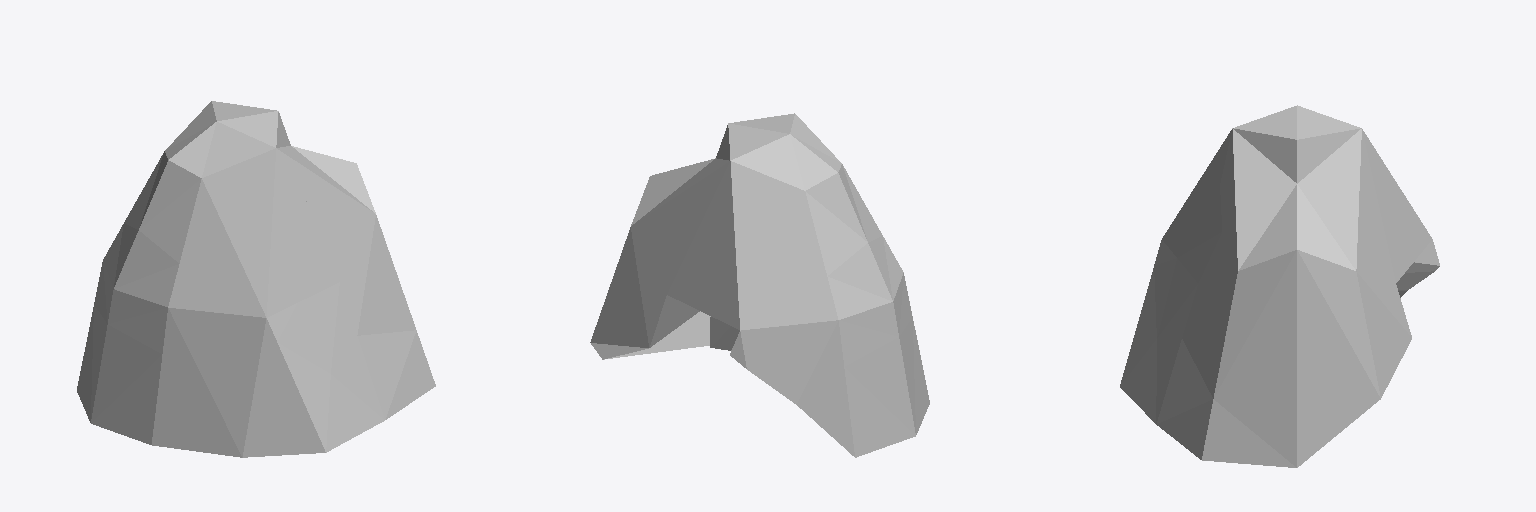
The model's file is Breakable.obj.
3 renders of one model, left to right at view 1: azimuth 30°, elevation 25°; view 2: azimuth 150°, elevation 25°; view 3: azimuth 270°, elevation 25°, orthographic.
Parts seen in each view (by area): view 1: mesh_4_, mesh_11_, mesh_21_, mesh_5_, mesh_38_, mesh_36_, mesh_19_, mesh_7_, mesh_28_; view 2: mesh_4_, mesh_21_, mesh_11_, mesh_19_, mesh_38_, mesh_10_, mesh_36_, mesh_18_, mesh_40_; view 3: mesh_4_, mesh_19_, mesh_36_, mesh_9_, mesh_7_, mesh_15_, mesh_12_.
Part boxes in pixels (x1,y1,x2,y2): mesh_4_: (78, 104, 433, 455); mesh_11_: (94, 223, 276, 391); mesh_21_: (77, 308, 164, 444); mesh_5_: (152, 343, 287, 457); mesh_38_: (77, 309, 209, 443); mesh_36_: (200, 101, 344, 217); mesh_19_: (201, 101, 343, 193); mesh_7_: (267, 282, 355, 352); mesh_28_: (108, 230, 258, 388); mesh_4_: (590, 115, 925, 457); mesh_21_: (797, 324, 929, 457); mesh_11_: (730, 236, 912, 403); mesh_19_: (662, 114, 806, 229); mesh_38_: (847, 323, 929, 456); mesh_10_: (608, 312, 710, 358); mesh_36_: (663, 113, 804, 227); mesh_18_: (591, 295, 698, 359); mesh_40_: (710, 317, 739, 350); mesh_4_: (1120, 106, 1431, 467); mesh_19_: (1233, 106, 1375, 230); mesh_36_: (1219, 105, 1375, 231); mesh_9_: (1200, 399, 1294, 467); mesh_7_: (1154, 240, 1197, 316); mesh_15_: (1223, 222, 1416, 281); mesh_12_: (1396, 239, 1439, 290).
Size of the model in its own units: 706 by 584 by 625.